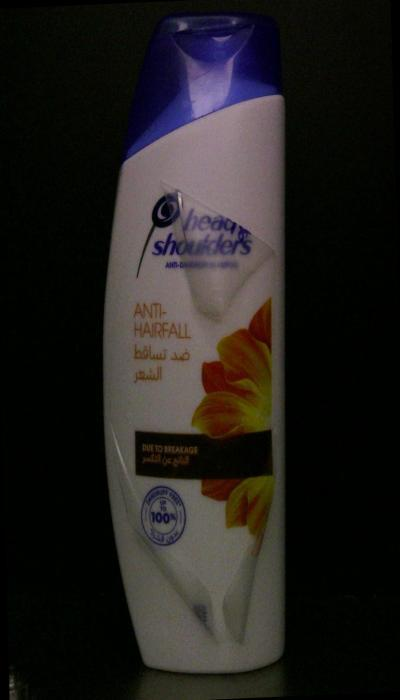adhesion_unacc: (107, 430, 218, 654), (157, 174, 278, 323), (218, 493, 276, 646)
